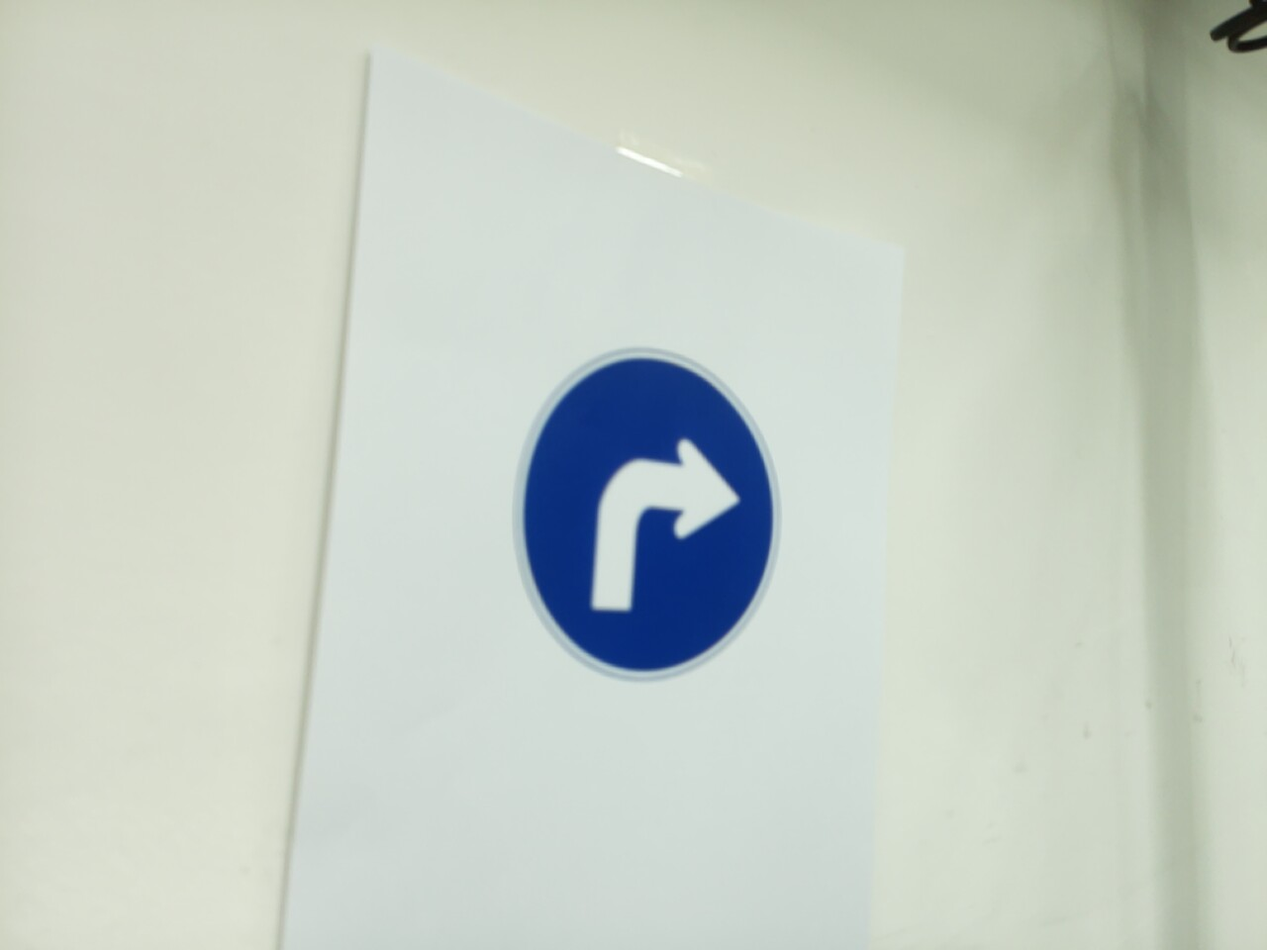right_turn: (515, 348, 782, 682)
